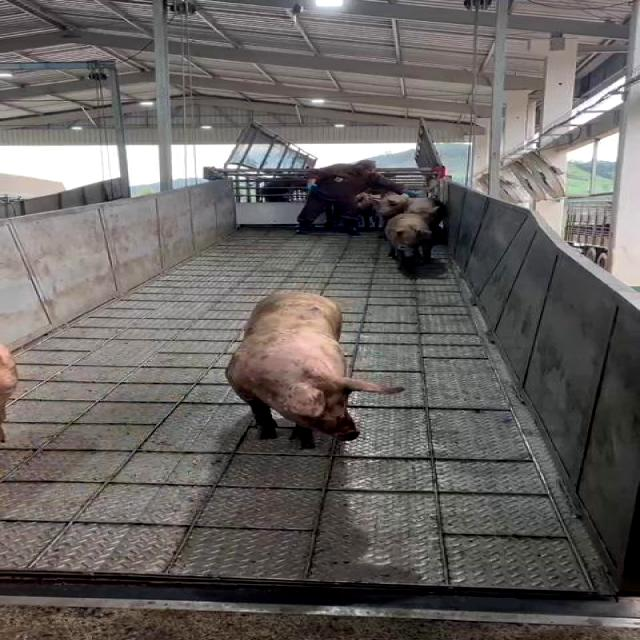pig: (228, 292, 400, 447), (387, 214, 434, 262), (0, 344, 18, 442)
